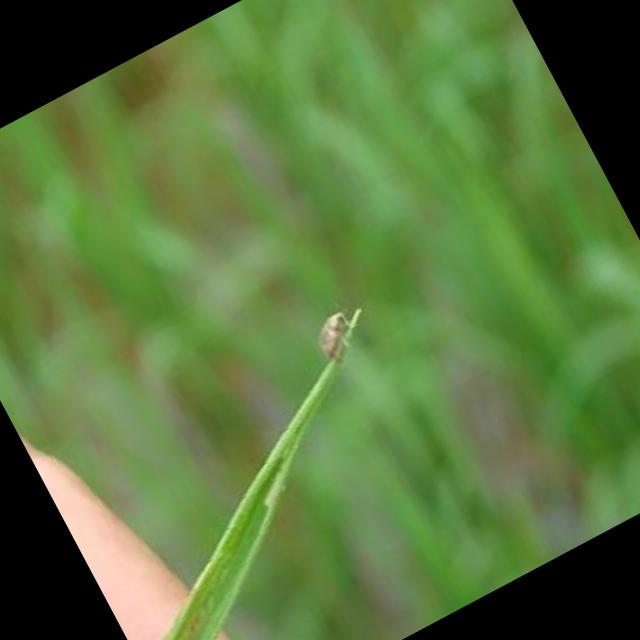rice-bug: (306, 299, 368, 366)
